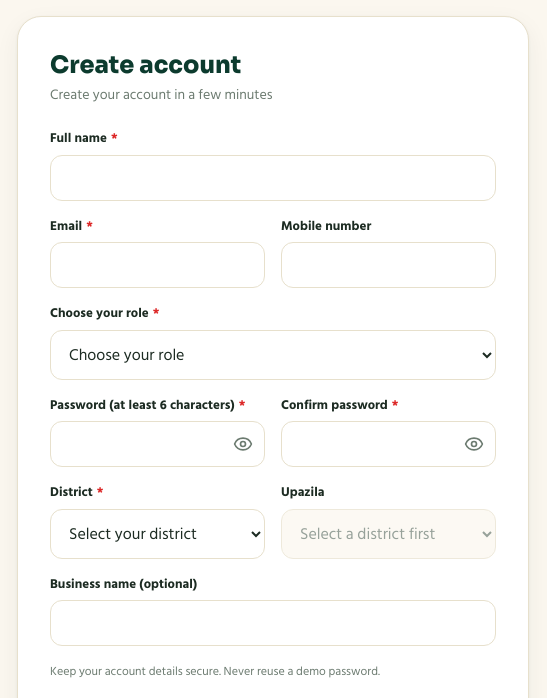
Test: RegisterPage location selects › keeps the upazila select disabled until a district is chosen
Expected: the dropdown labelled "Upazila" is disabled, left=281, top=508, right=496, bottom=558
Select "Dhaka" in the dropdown labelled "District*" at (158, 534), box left=50, top=508, right=265, bottom=558
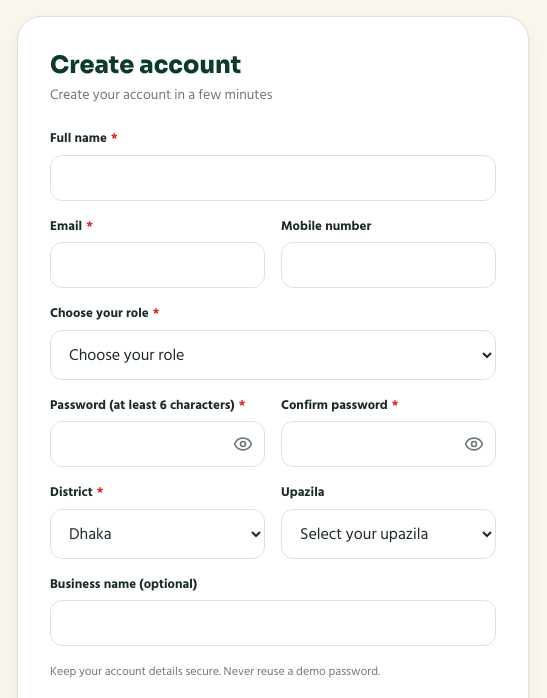
Now the dropdown labelled "Upazila" is enabled, box left=281, top=508, right=496, bottom=558
